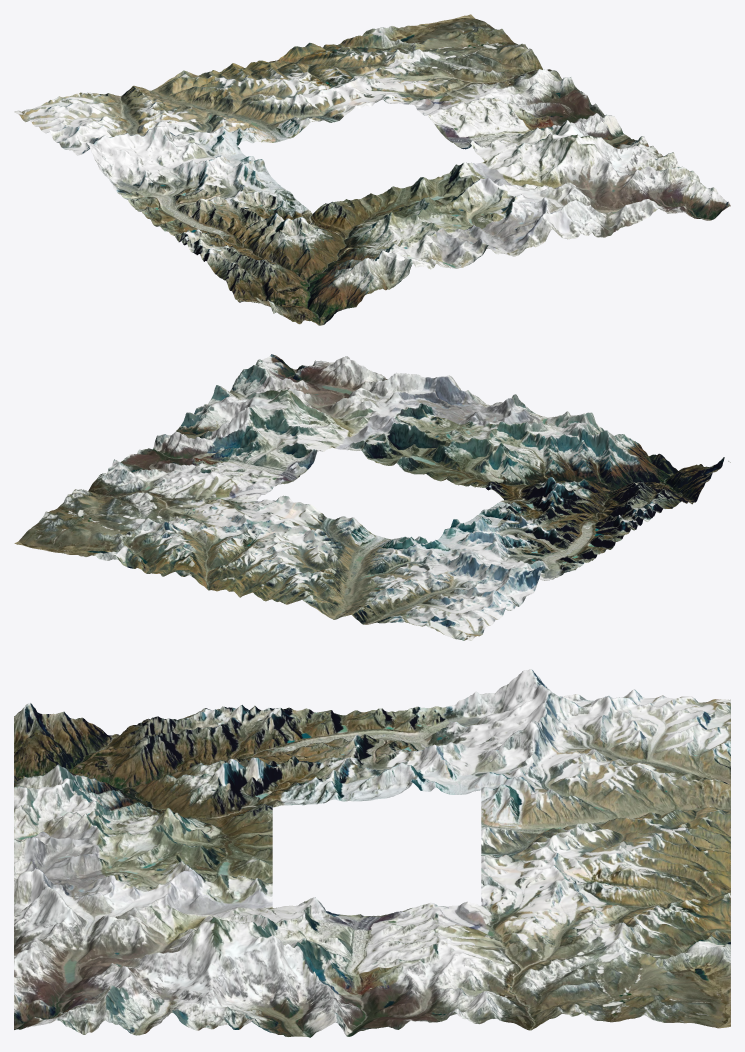
The model's file is ring_mid_opt.glb.
3 renders of one model, top to bottom at view 1: azimuth 30°, elevation 25°; view 2: azimuth 150°, elevation 25°; view 3: azimuth 270°, elevation 25°, orthographic. The views are drawn at different scales.
Visible parts, largest first — view 1: world; view 2: world; view 3: world.
Boxes of the visible parts, left/top/right/bottom form: world: left=14, top=14, right=730, bottom=325; world: left=14, top=354, right=730, bottom=640; world: left=14, top=669, right=730, bottom=1037.
Size of the model in its own units: 45216 by 5542 by 44526.
1 material, 1 textured.
